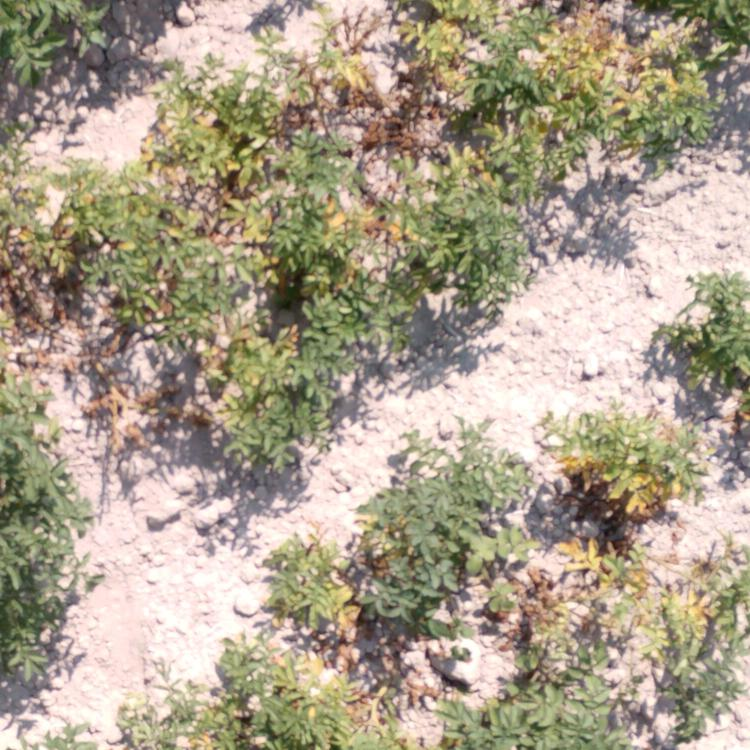healthy: (370, 441, 507, 621), (4, 374, 58, 682), (659, 267, 750, 374), (451, 694, 625, 749), (7, 2, 105, 82)
stressed: (16, 189, 346, 360), (407, 2, 725, 143), (356, 151, 534, 317), (540, 554, 740, 681), (178, 645, 401, 746), (181, 51, 349, 184), (534, 406, 701, 538), (251, 538, 365, 637)
